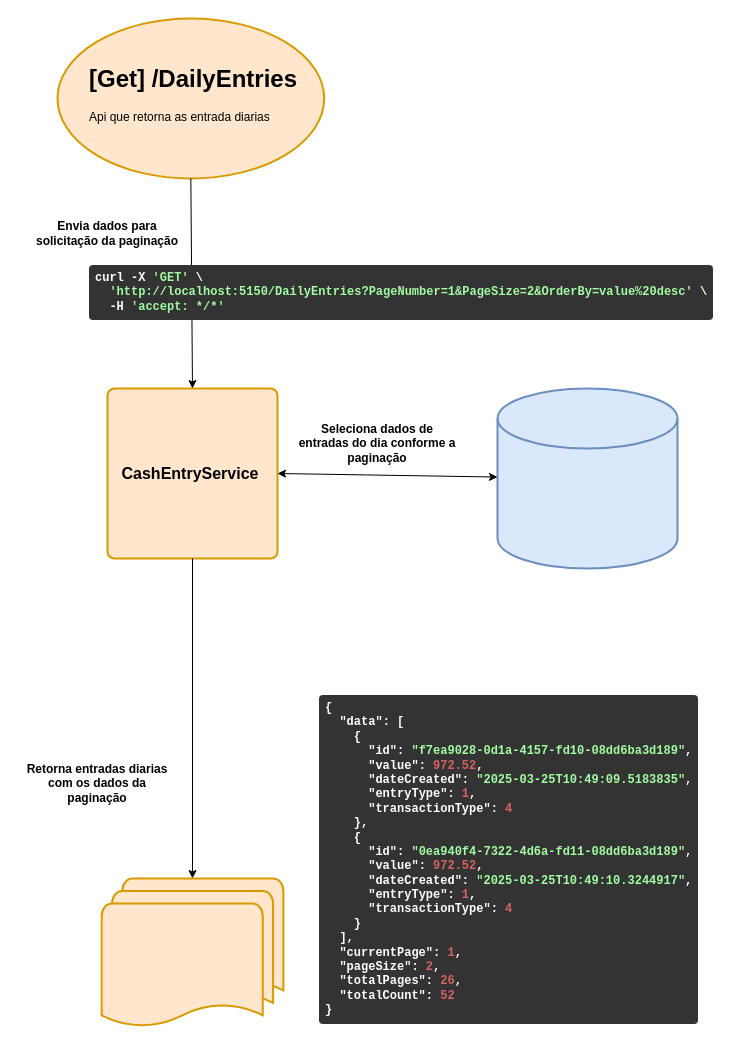
Some shapes in this 730 by 1055 pixel diagram are drawn without their labels. Each missing label, with the centre of its shape:
"Carrefour Database" goes at (x=587, y=478).
"Entradas Diarias" goes at (x=192, y=953).
